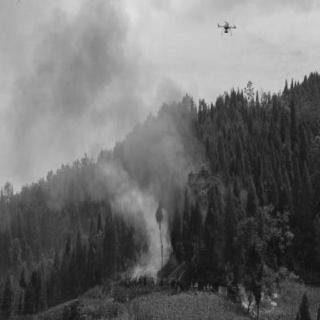other: (183, 278, 215, 296)
